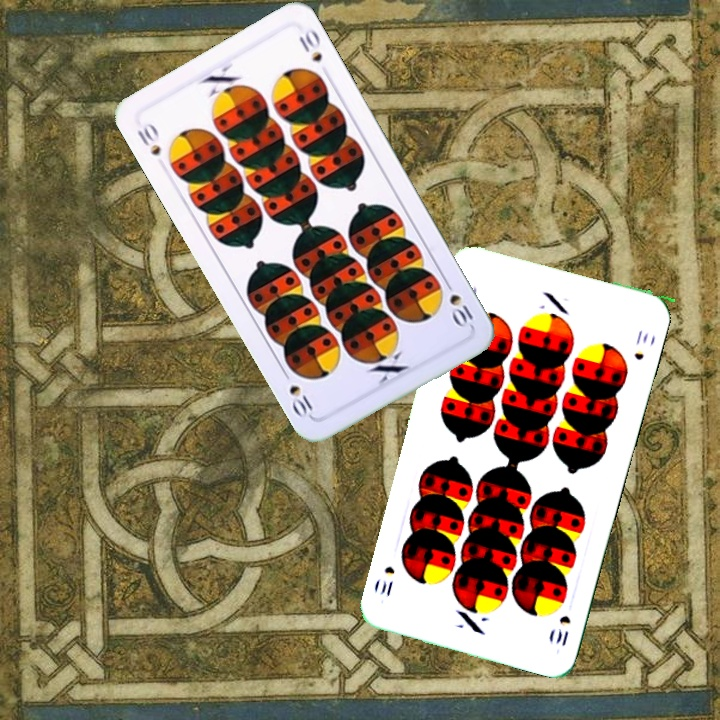S10: (440, 275, 476, 330), (133, 118, 164, 159), (547, 611, 573, 649)
